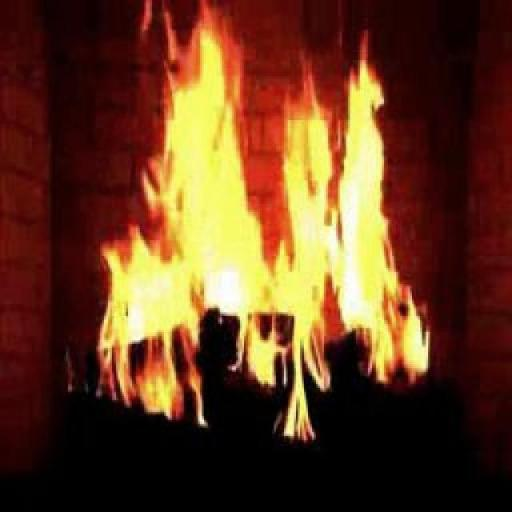smoke: (120, 44, 426, 370)
